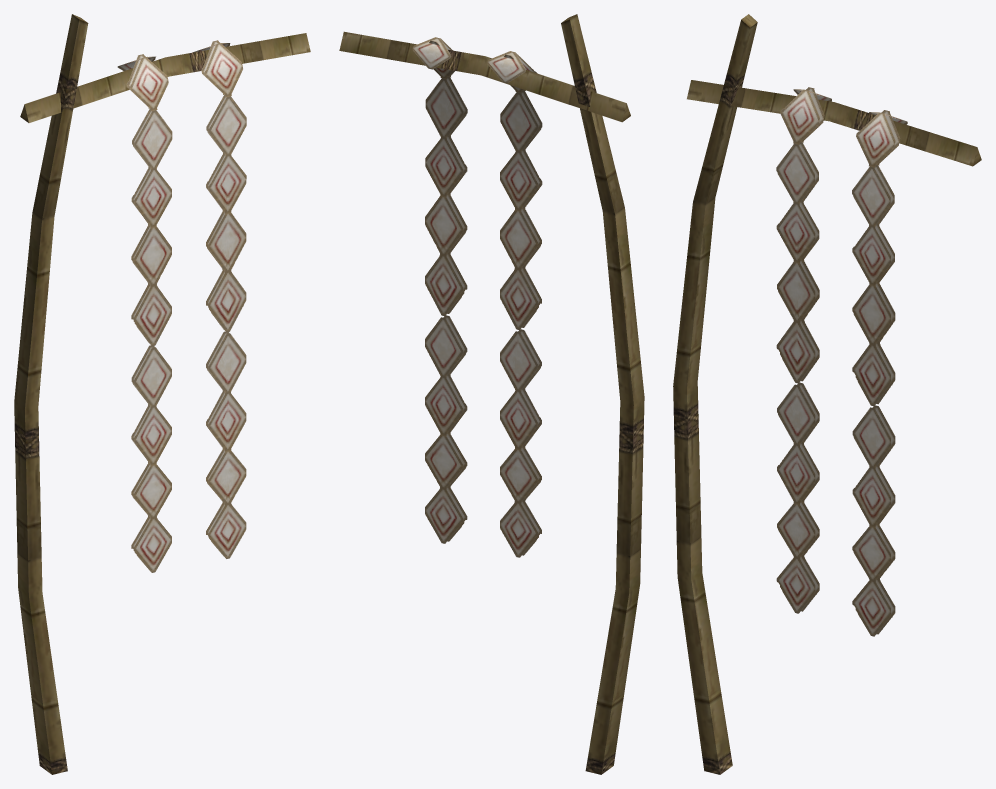
Rendered from zhaohunfan_fd_60.FBX.
3 renders of one model, left to right at view 1: azimuth 30°, elevation 25°; view 2: azimuth 150°, elevation 25°; view 3: azimuth 330°, elevation 25°, orthographic.
Parts seen in each view (by area): view 1: zhaohunfan_fd_60; view 2: zhaohunfan_fd_60; view 3: zhaohunfan_fd_60.
Boxes of the visible parts, box(x1,y1,x2,y2) form: zhaohunfan_fd_60: box(14, 14, 310, 774); zhaohunfan_fd_60: box(339, 14, 644, 774); zhaohunfan_fd_60: box(673, 14, 981, 774).
Size of what is drawn, in the model's own units: 111 by 272 by 12.02.
